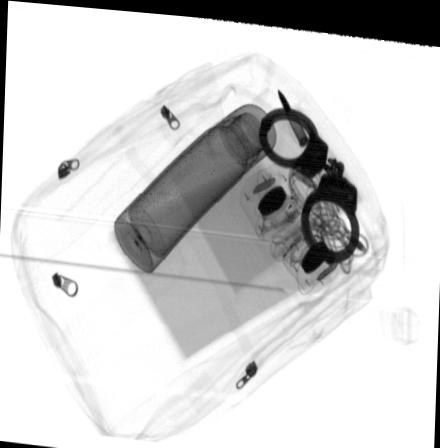Bullet: (276, 84, 306, 141)
HandCuffs: (258, 102, 361, 259)
